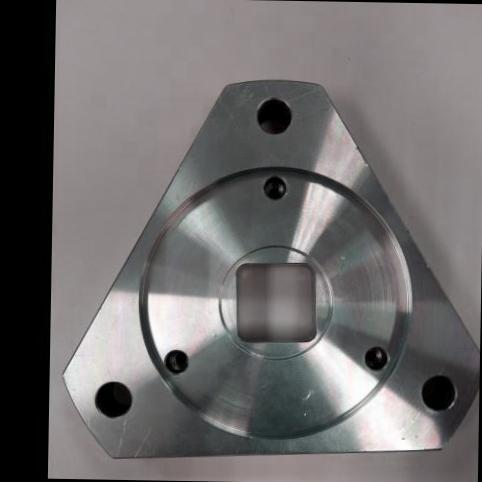hole: (92, 379, 136, 420), (419, 372, 461, 414), (254, 95, 295, 136), (362, 343, 392, 373), (162, 348, 192, 378), (261, 173, 290, 202)
